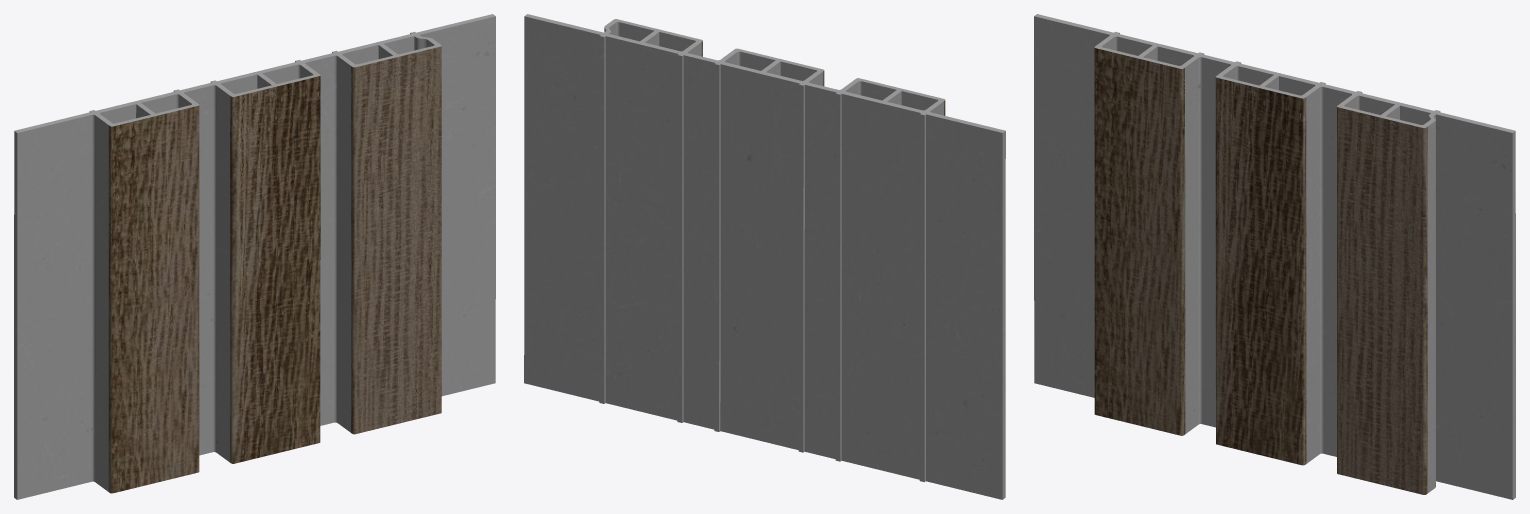
The model's file is ikibolmeliwood.glb.
3 renders of one model, left to right at view 1: azimuth 30°, elevation 25°; view 2: azimuth 150°, elevation 25°; view 3: azimuth 330°, elevation 25°, orthographic.
Visible parts, largest first — view 1: Plane.007; view 2: Plane.007; view 3: Plane.007.
Part boxes in pixels (x1,y1,x2,y2): Plane.007: [14, 14, 495, 499]; Plane.007: [524, 14, 1005, 499]; Plane.007: [1034, 14, 1515, 499].
Bounding box in the file's own units: 10.06 × 7.37 × 0.7962.
Materials: 2 (2 with a texture image).
